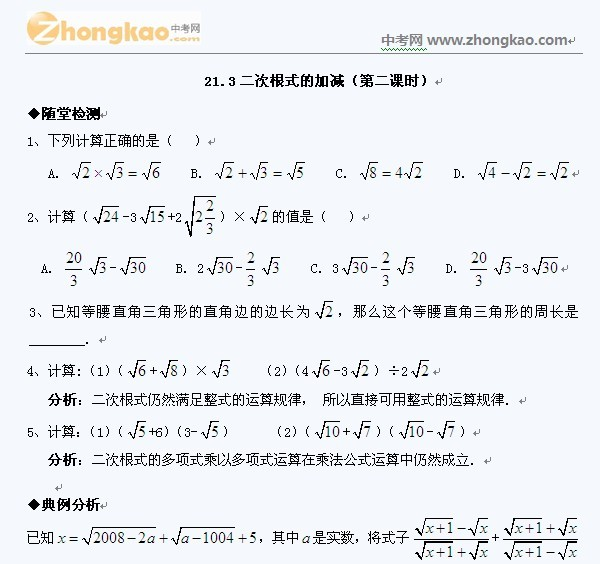division: (502, 533, 581, 547), (410, 535, 494, 545), (64, 267, 84, 275), (467, 267, 486, 275), (204, 215, 216, 224), (244, 267, 253, 273), (382, 265, 389, 272)
sqrt: (81, 523, 157, 551), (184, 193, 222, 239), (171, 524, 238, 547), (411, 512, 457, 536), (504, 514, 548, 537), (414, 538, 458, 561), (504, 539, 544, 564), (532, 252, 563, 282), (338, 251, 368, 282), (309, 352, 336, 384), (141, 202, 170, 231), (213, 352, 239, 383), (205, 254, 236, 278), (247, 200, 269, 233), (119, 255, 151, 277), (93, 201, 119, 228), (312, 418, 343, 440), (407, 355, 432, 382), (65, 159, 92, 183), (394, 254, 417, 282), (470, 536, 493, 564), (548, 158, 570, 187), (557, 537, 582, 562), (513, 157, 534, 186), (491, 251, 512, 280), (160, 356, 181, 385), (124, 356, 147, 382), (397, 417, 423, 440), (477, 158, 501, 182), (249, 158, 270, 185), (349, 356, 370, 383), (88, 253, 109, 279), (315, 299, 338, 322), (199, 417, 222, 440), (126, 417, 148, 441), (434, 419, 458, 441), (107, 159, 126, 186), (141, 159, 163, 182), (286, 158, 306, 183), (357, 157, 377, 182), (215, 160, 236, 183), (468, 516, 491, 537), (561, 516, 585, 536), (403, 158, 422, 183), (351, 418, 372, 440), (262, 255, 279, 275)
